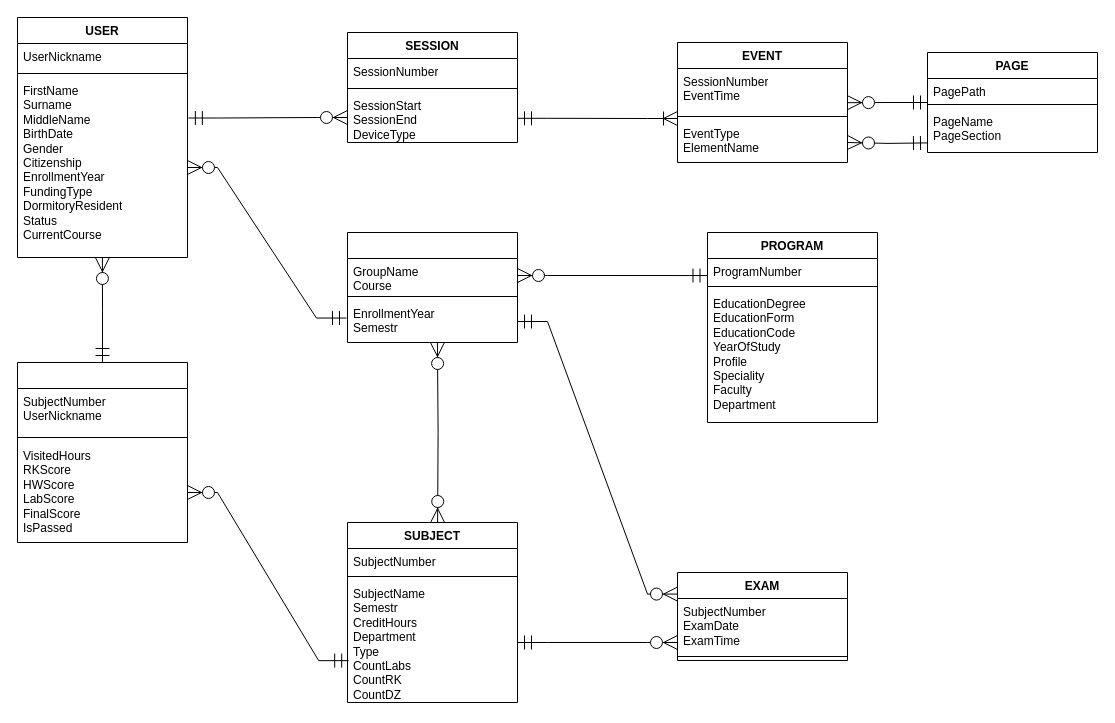
Some shapes in this 1115 by 723 pixel diagram are drawn without their labels. The box of each missing label's shape, as (x1, y1, x2, y2) in pixels:
GRADE: (16, 362, 188, 542)
STUDY GROUP: (346, 232, 518, 342)
